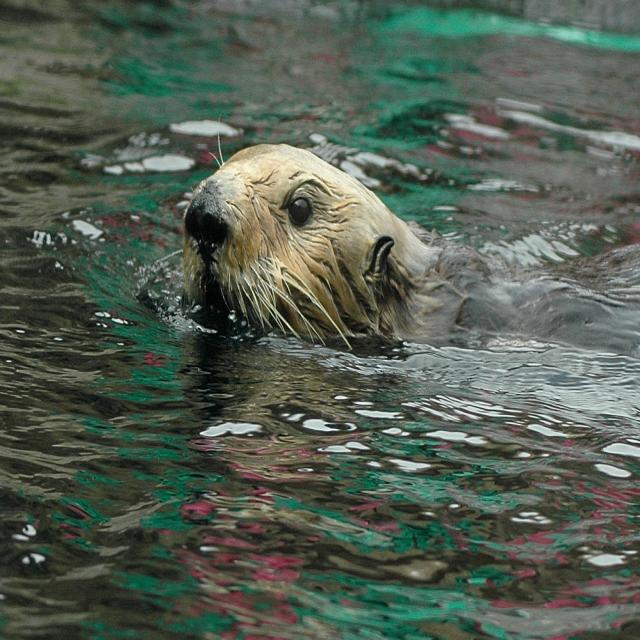otter: (184, 144, 457, 347)
